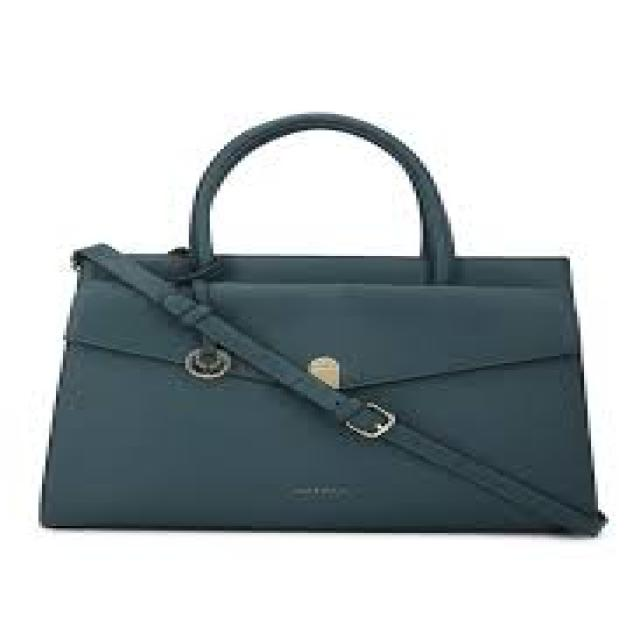handbag: (35, 110, 608, 536)
